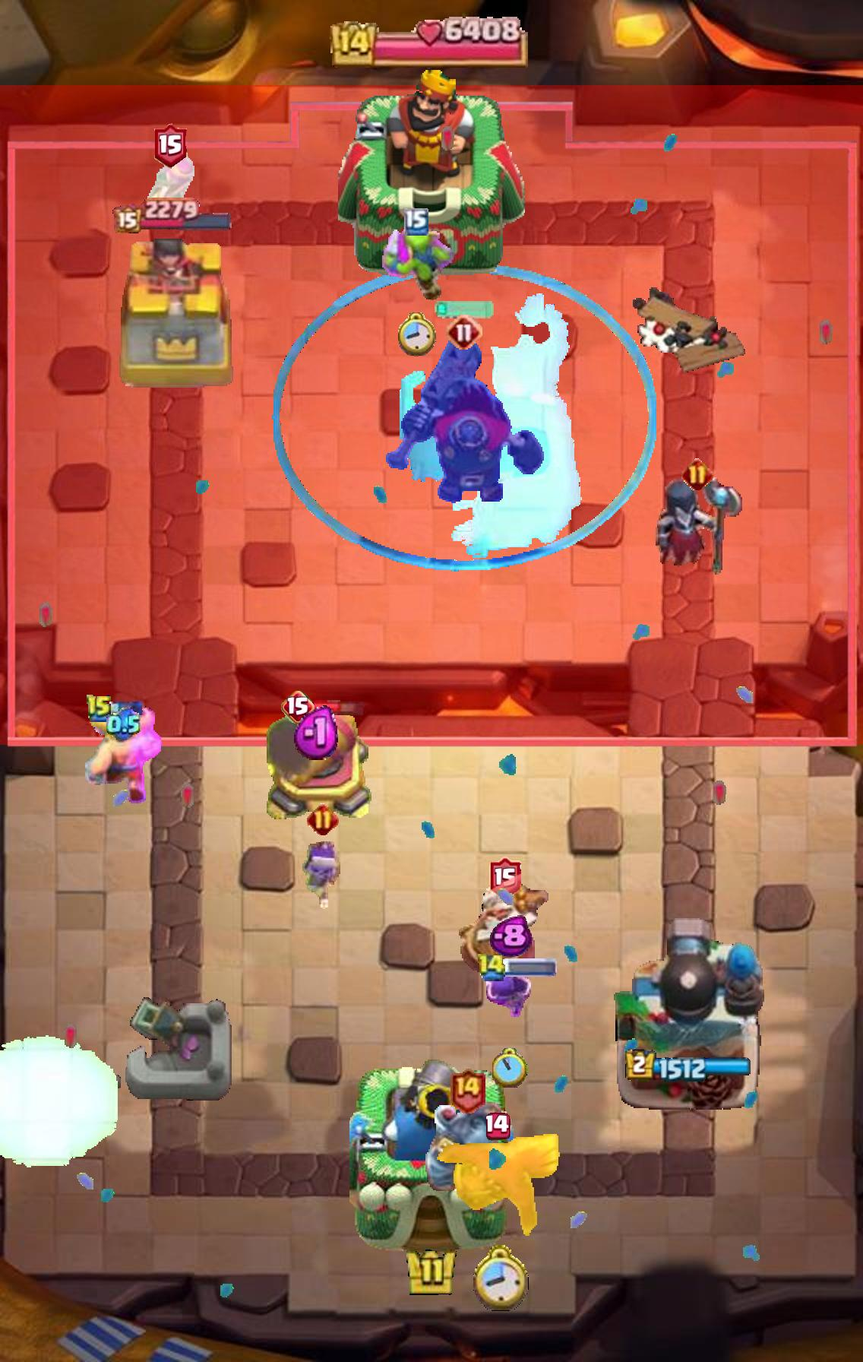bar: (311, 698, 364, 717)
bar-level: (448, 1066, 486, 1113), (154, 123, 188, 169), (489, 856, 521, 898), (446, 314, 482, 350), (281, 690, 315, 724), (681, 458, 713, 490), (307, 803, 339, 835), (485, 1112, 511, 1141)
